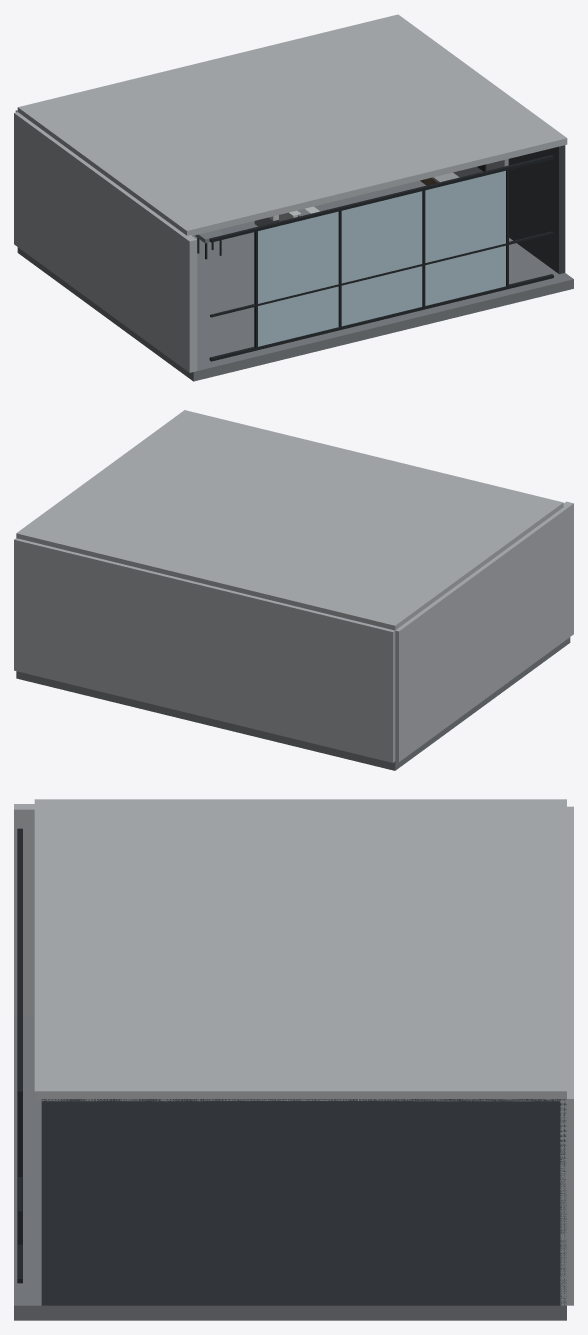
The model's file is interior.glb.
3 views of the same model, one above another, from view 1: azimuth 30°, elevation 25°; view 2: azimuth 150°, elevation 25°; view 3: azimuth 270°, elevation 25° (orthographic). The views are drawn at different scales.
Parts seen in each view (by area): view 1: Ceiling floating slab, Left wall, Continuous graphite porcelain floor, Floor-to-ceiling glass panel.001, Floor-to-ceiling glass panel, Floor-to-ceiling glass panel.002, Right charcoal feature wall, Window top frame, Window bottom frame, Window centre horizontal rail; view 2: Ceiling floating slab, Rear wall, Left wall, Continuous graphite porcelain floor; view 3: Ceiling floating slab, Right charcoal feature wall, Continuous graphite porcelain floor, Rear wall, Left wall, Window top frame, Window mullion.003.
Part boxes in pixels (x1,y1,x2,y2): Ceiling floating slab: (17,14,567,235); Left wall: (14,112,197,372); Continuous graphite porcelain floor: (17,180,573,381); Floor-to-ceiling glass panel.001: (341,191,422,326); Floor-to-ceiling glass panel: (258,211,338,346); Floor-to-ceiling glass panel.002: (425,170,505,305); Right charcoal feature wall: (508,145,565,274); Window top frame: (209,155,553,242); Window bottom frame: (209,274,553,361); Window centre horizontal rail: (210,231,553,317); Ceiling floating slab: (16,410,563,630); Rear wall: (14,538,395,762); Left wall: (395,501,573,762); Continuous graphite porcelain floor: (16,637,570,770); Ceiling floating slab: (34,799,566,1101); Right charcoal feature wall: (41,1099,566,1305); Continuous graphite porcelain floor: (14,1016,566,1320); Rear wall: (560,806,573,1305); Left wall: (14,804,34,1016); Window top frame: (17,828,22,1095); Window mullion.003: (17,1096,22,1244).
Size of the model in its own units: 10.1 by 3.66 by 8.1.
